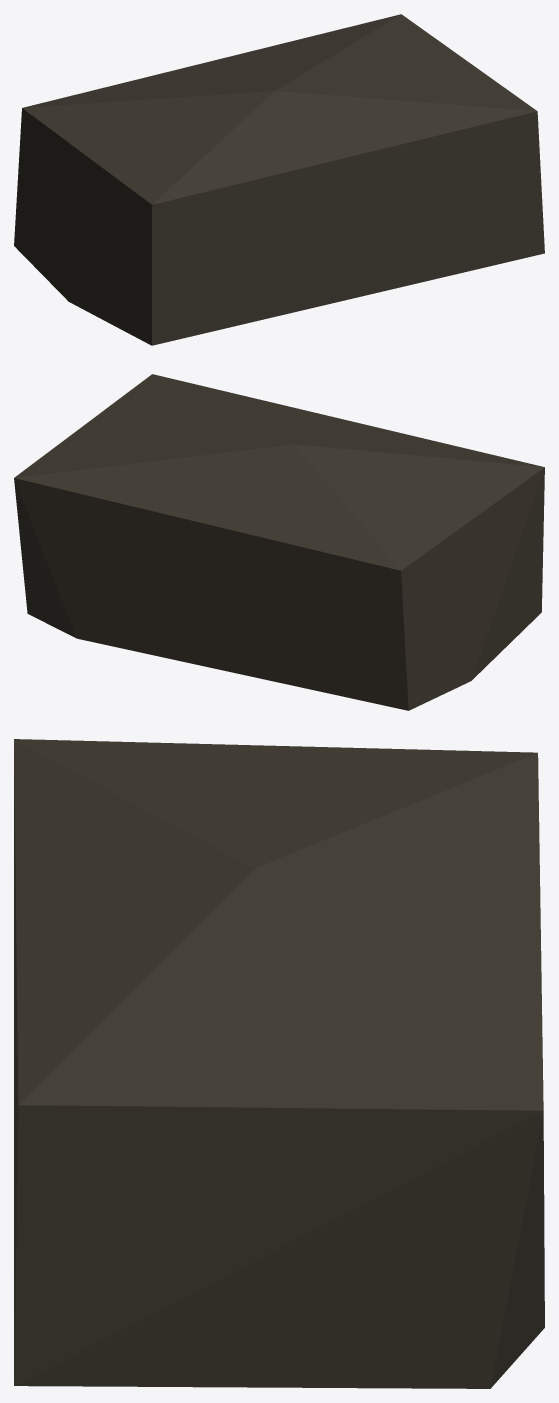
File: Brick_Single_5.fbx
3 renders of one model, top to bottom at view 1: azimuth 30°, elevation 25°; view 2: azimuth 150°, elevation 25°; view 3: azimuth 270°, elevation 25°, orthographic. The views are drawn at different scales.
Visible parts, largest first — view 1: Group14992; view 2: Group14992; view 3: Group14992.
Boxes of the visible parts, left/top/right/bottom form: Group14992: left=14, top=14, right=544, bottom=345; Group14992: left=14, top=374, right=544, bottom=710; Group14992: left=14, top=739, right=544, bottom=1388.
Bounding box in the file's own units: 1.14 × 0.4826 × 0.6864.
